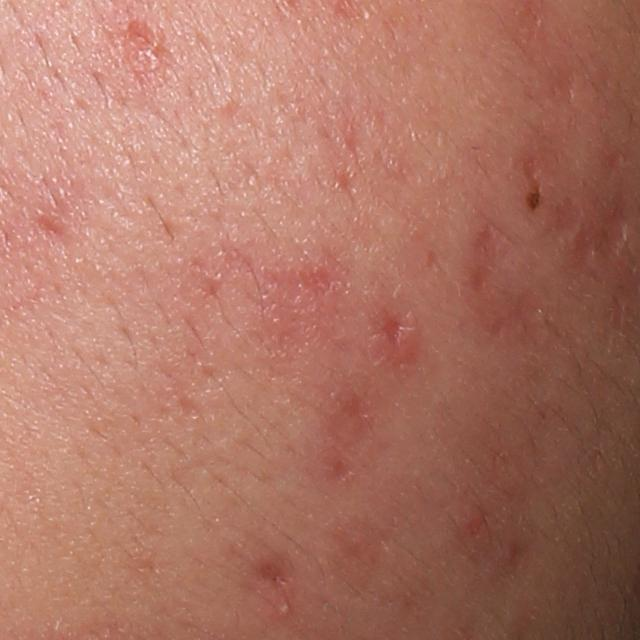atrophic_scar: (565, 189, 636, 281), (243, 556, 307, 592)
nevus: (523, 187, 542, 214)
